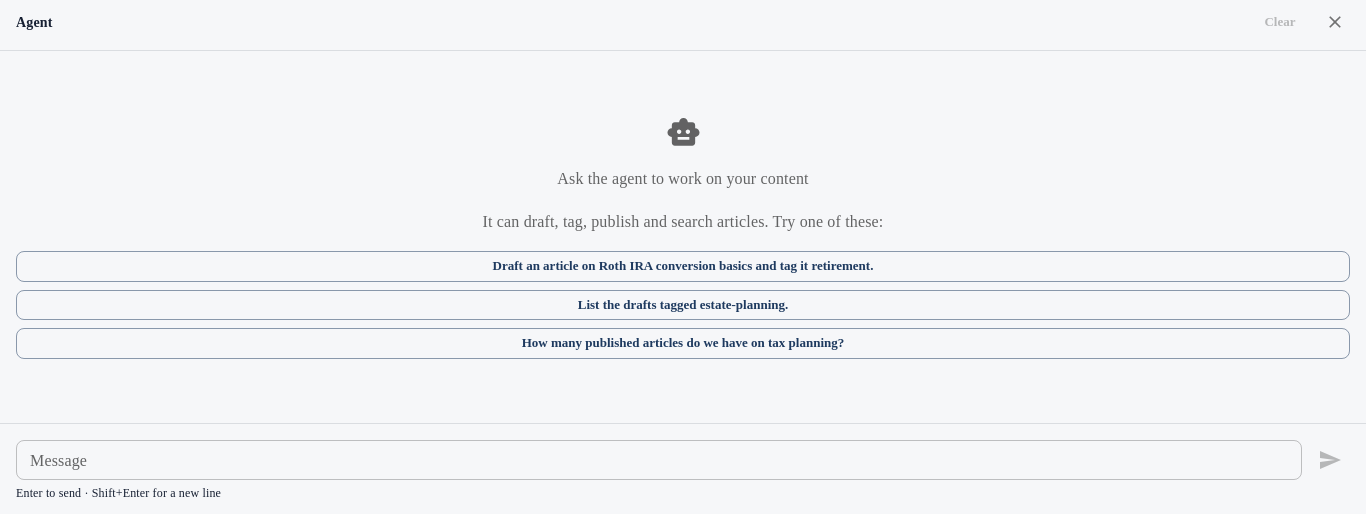
AgentPanel › renders a §6 cap-report final message as a normal assistant message, not an error
This screenshot has width=1366, height=514.
Type "Find everything tagged estate-planning and publish the drafts." into the text box labelled "Message".
click(659, 460); type("Find everything tagged estate-planning and publish the drafts.")  # box left=30, top=449, right=1288, bottom=472
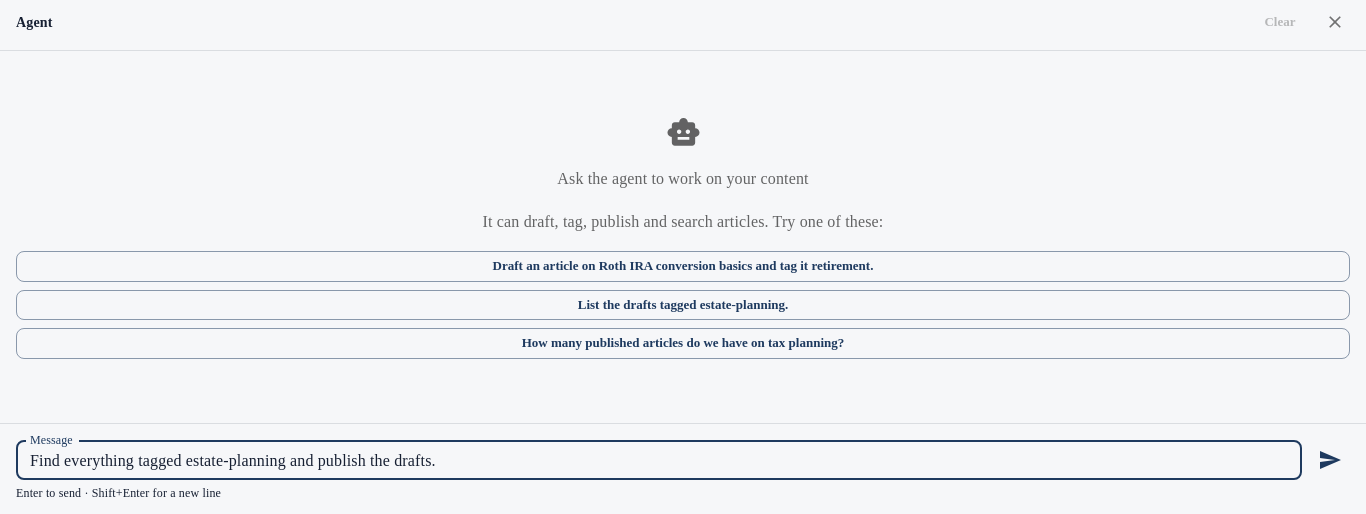
Click the button named "Send".
click(1330, 460)  # box left=1310, top=440, right=1350, bottom=480
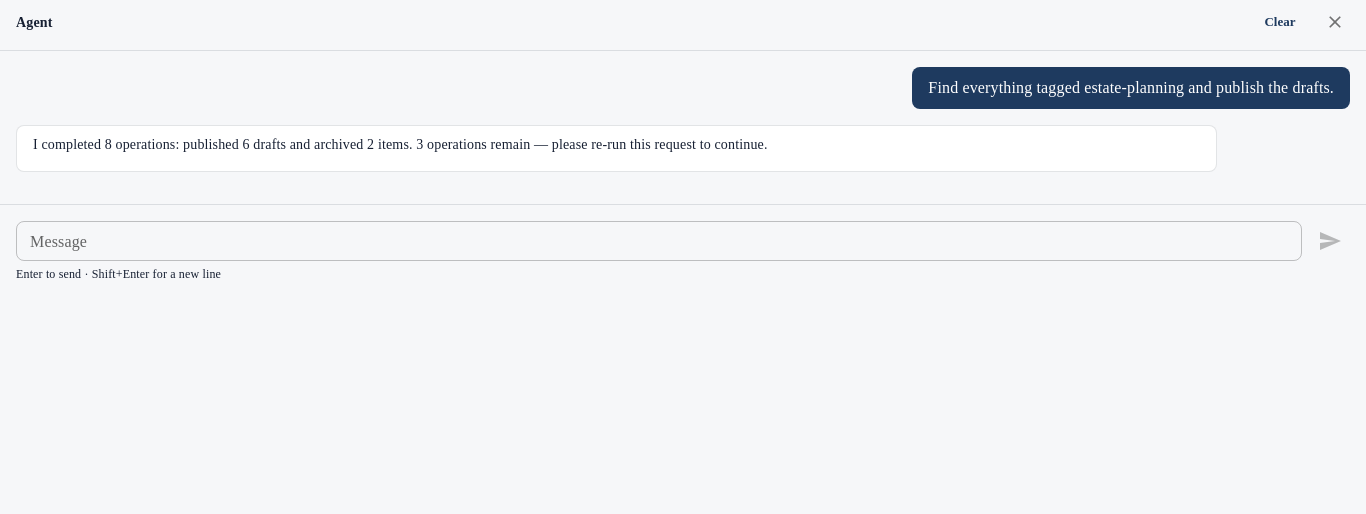
Result: the element named "Assistant" shows "I completed 8 operations: published 6 drafts and archived 2 items. 3 operations remain — please re-run this request to continue." at left=33, top=137, right=768, bottom=152
Result: the message is gone
